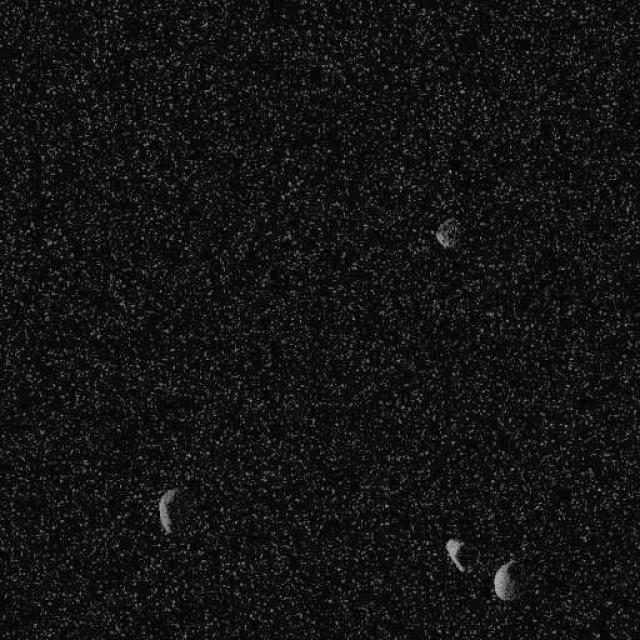D2: (492, 558, 522, 602), (156, 486, 178, 535), (443, 536, 468, 572), (434, 216, 460, 249)
